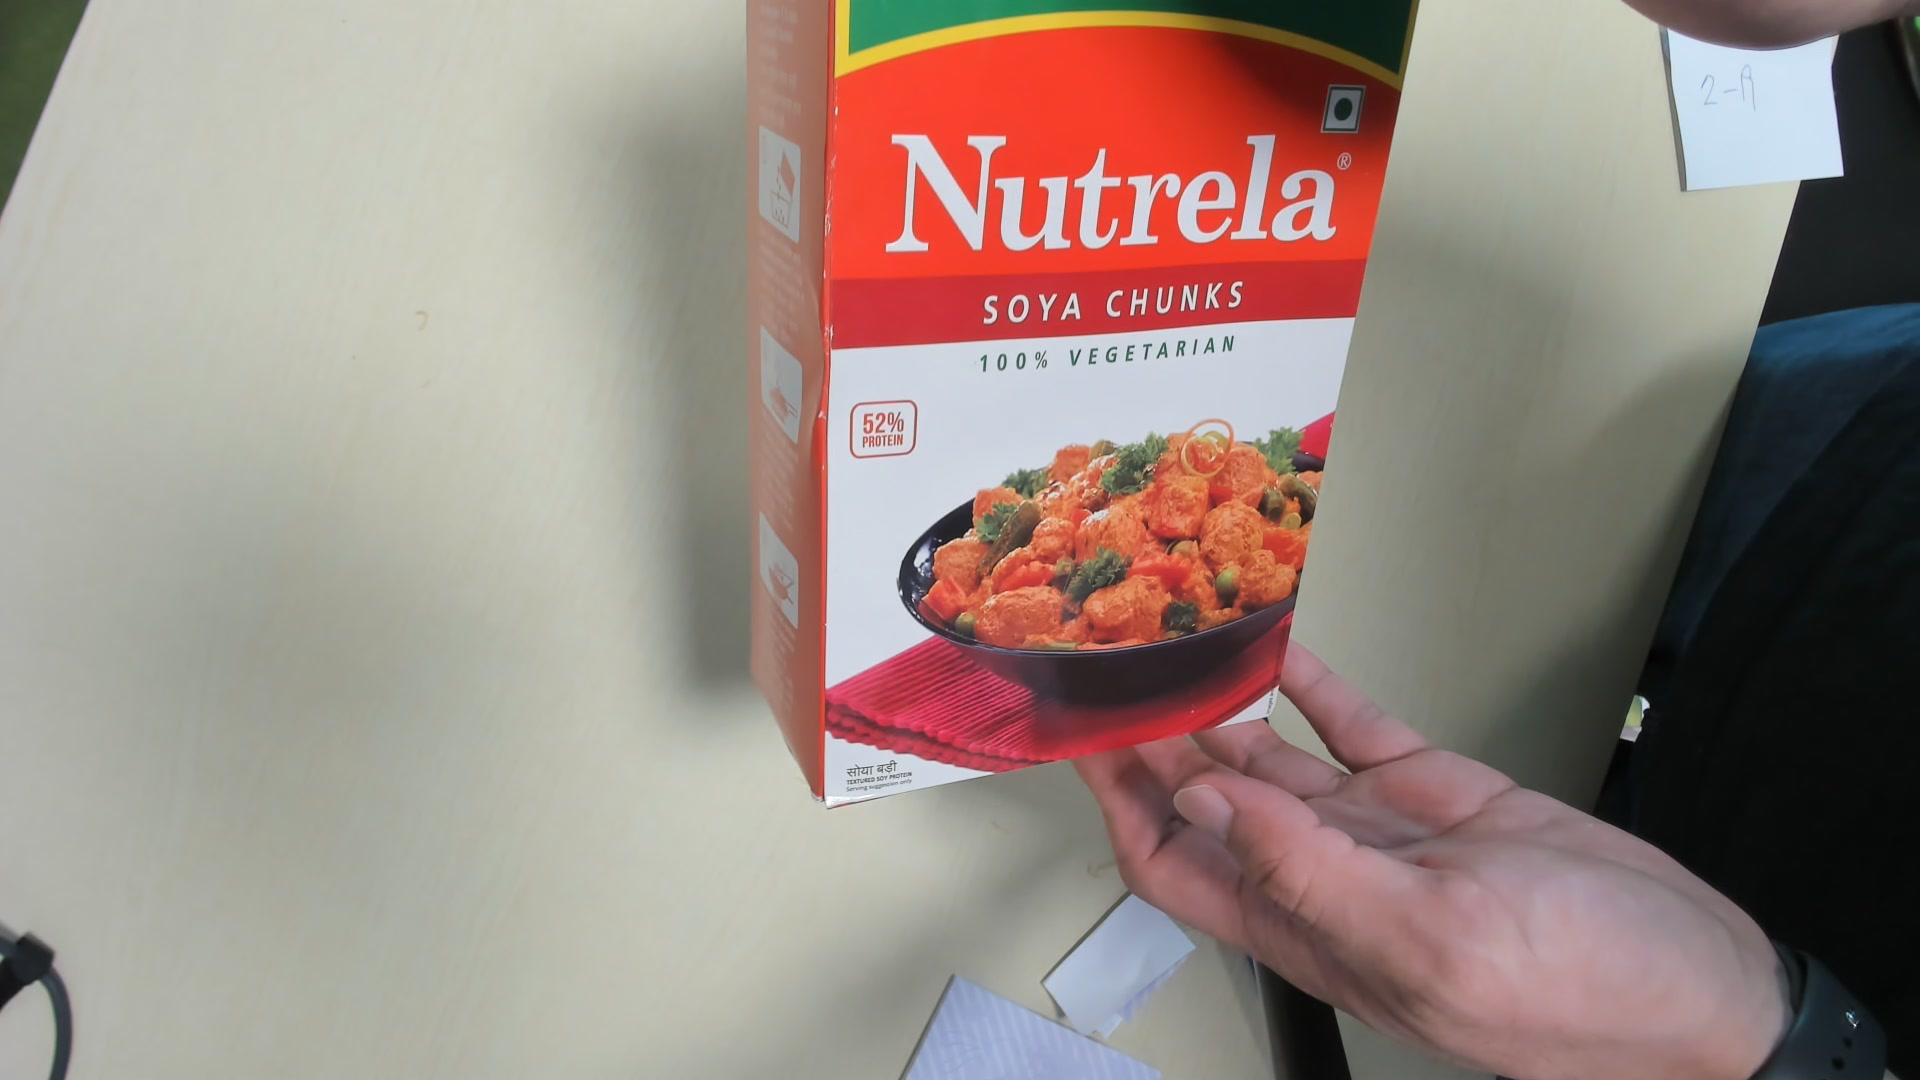InstantMeals_200_299g_NonHalal_NonHealthy: (741, 3, 1414, 808)
